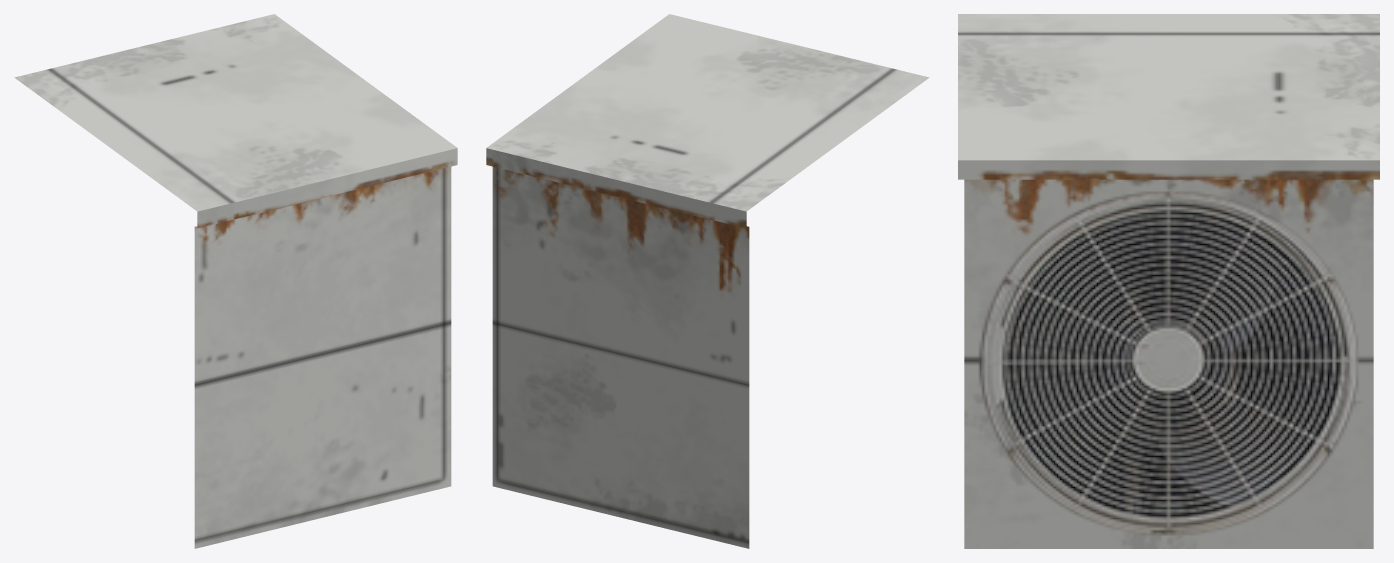
File: vent_low_poly_realist.glb
3 views of the same model, side by side, from view 1: azimuth 30°, elevation 25°; view 2: azimuth 150°, elevation 25°; view 3: azimuth 270°, elevation 25° (orthographic). The views are drawn at different scales.
Parts seen in each view (by area): view 1: Object_2; view 2: Object_2; view 3: Object_2.
Boxes of the visible parts, x1,y1,x2,y2 form: Object_2: (14, 14, 457, 548); Object_2: (486, 14, 929, 548); Object_2: (958, 14, 1379, 548).
Bounding box in the file's own units: 0.4436 × 0.5524 × 0.5405.
Materials: 1 (1 with a texture image).
